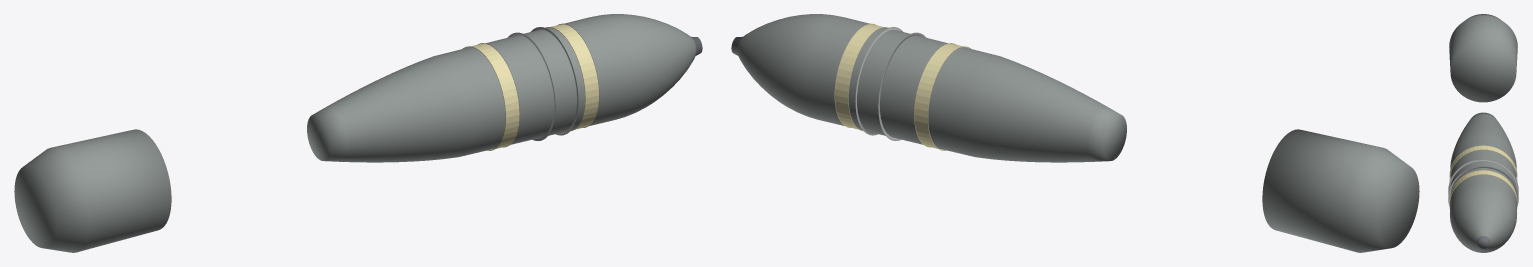
Rendered from US_SLBM_Polaris_A3_LOD0.fbx.
3 renders of one model, left to right at view 1: azimuth 30°, elevation 25°; view 2: azimuth 150°, elevation 25°; view 3: azimuth 270°, elevation 25°, orthographic. The views are drawn at different scales.
Visible parts, largest first — view 1: WPN_US_SLBM_Polaris_A3_LOD0_Body, WPN_US_SLBM_Polaris_A3_LOD0_Tail, WPN_US_SLBM_Polaris_A3_LOD0_Marking, WPN_US_SLBM_Polaris_A3_LOD0_Detail; view 2: WPN_US_SLBM_Polaris_A3_LOD0_Body, WPN_US_SLBM_Polaris_A3_LOD0_Tail, WPN_US_SLBM_Polaris_A3_LOD0_Marking, WPN_US_SLBM_Polaris_A3_LOD0_Detail; view 3: WPN_US_SLBM_Polaris_A3_LOD0_Body, WPN_US_SLBM_Polaris_A3_LOD0_Tail, WPN_US_SLBM_Polaris_A3_LOD0_Marking, WPN_US_SLBM_Polaris_A3_LOD0_Detail, WPN_US_SLBM_Polaris_A3_LOD0_Nose.
Part boxes in pixels (left/top/right/bottom): WPN_US_SLBM_Polaris_A3_LOD0_Body: left=307, top=14, right=696, bottom=162; WPN_US_SLBM_Polaris_A3_LOD0_Tail: left=14, top=129, right=171, bottom=252; WPN_US_SLBM_Polaris_A3_LOD0_Marking: left=462, top=23, right=599, bottom=150; WPN_US_SLBM_Polaris_A3_LOD0_Detail: left=508, top=27, right=578, bottom=140; WPN_US_SLBM_Polaris_A3_LOD0_Body: left=737, top=14, right=1126, bottom=162; WPN_US_SLBM_Polaris_A3_LOD0_Tail: left=1262, top=129, right=1419, bottom=252; WPN_US_SLBM_Polaris_A3_LOD0_Marking: left=834, top=23, right=971, bottom=150; WPN_US_SLBM_Polaris_A3_LOD0_Detail: left=855, top=27, right=925, bottom=140; WPN_US_SLBM_Polaris_A3_LOD0_Body: left=1450, top=112, right=1516, bottom=252; WPN_US_SLBM_Polaris_A3_LOD0_Tail: left=1449, top=14, right=1517, bottom=102; WPN_US_SLBM_Polaris_A3_LOD0_Marking: left=1449, top=145, right=1517, bottom=208; WPN_US_SLBM_Polaris_A3_LOD0_Detail: left=1448, top=159, right=1518, bottom=206; WPN_US_SLBM_Polaris_A3_LOD0_Nose: left=1477, top=236, right=1489, bottom=248.
Bounding box in the file's own units: 9.9 × 1.44 × 1.44.
